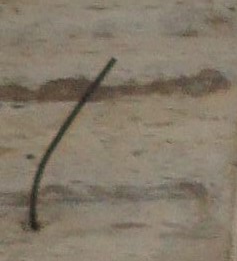Exposed reinforcement: (29, 56, 117, 232)
